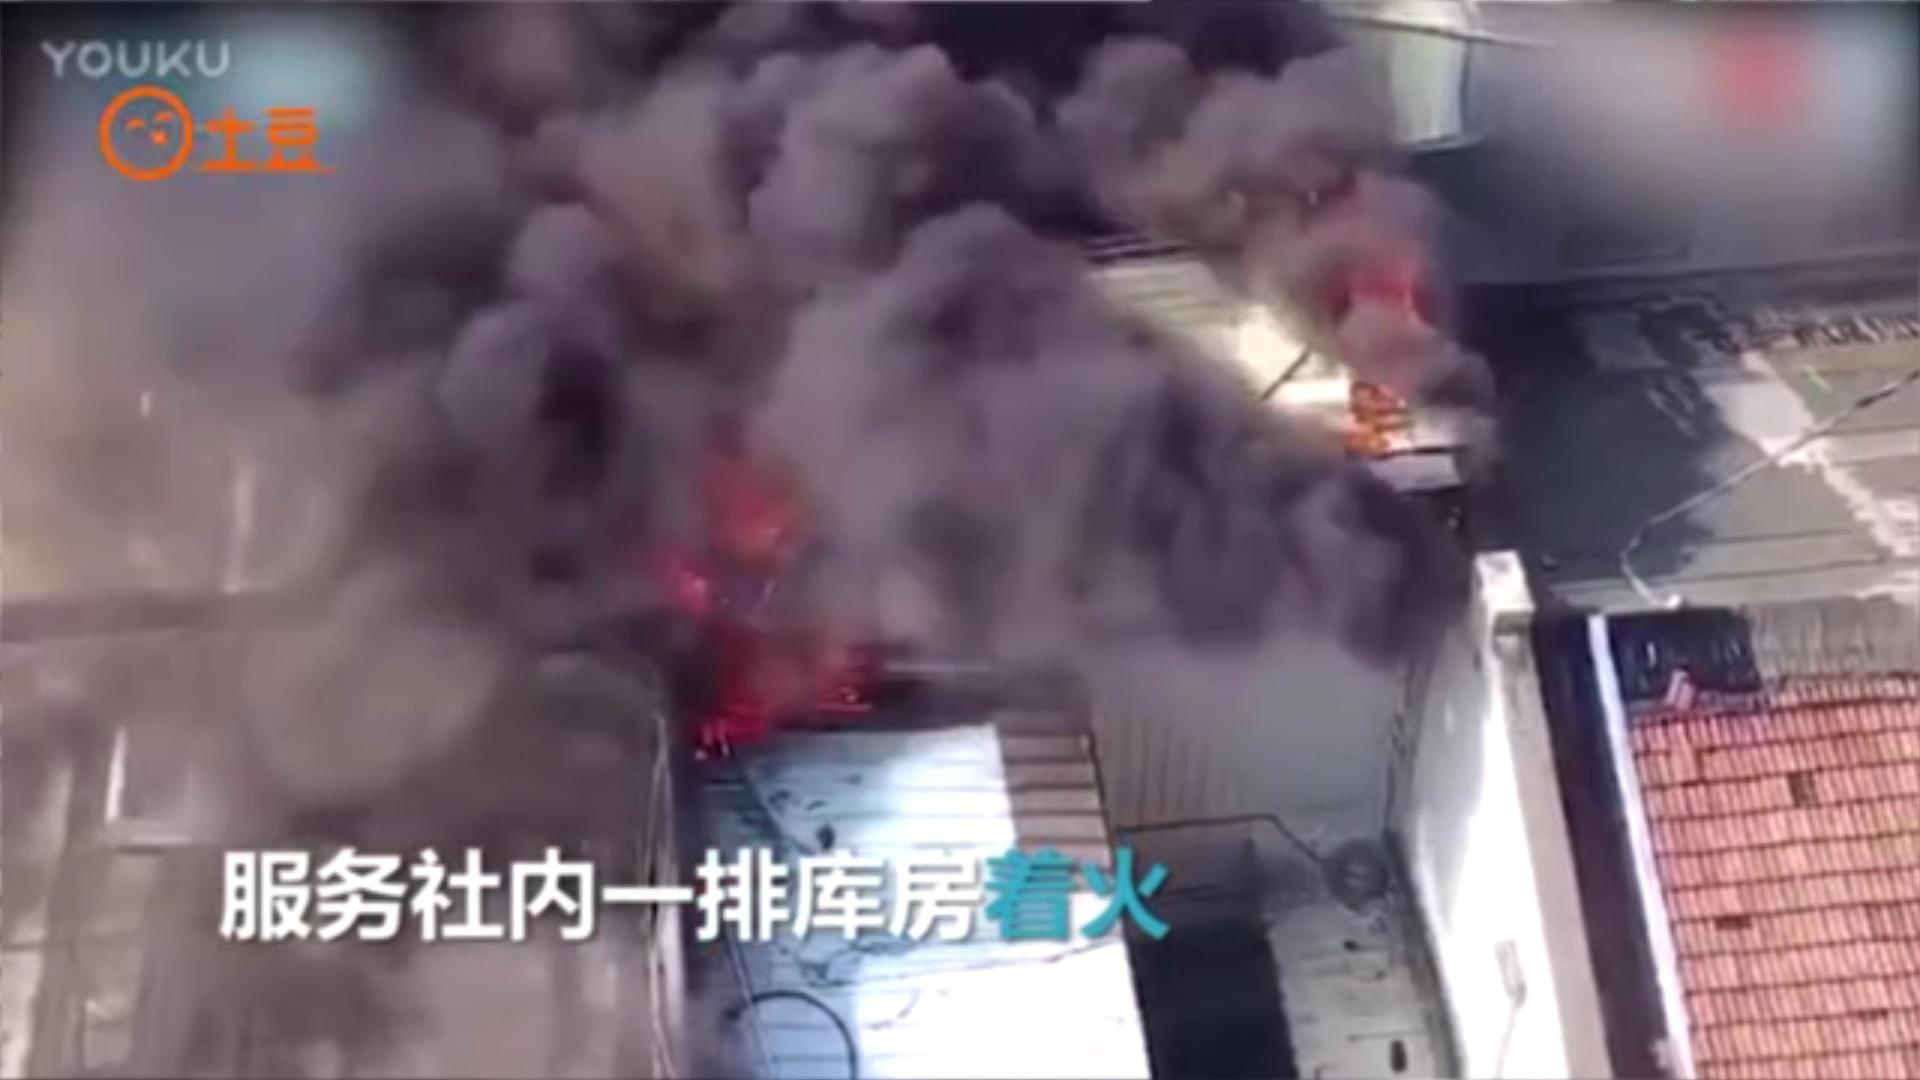fire: (663, 506, 880, 746)
